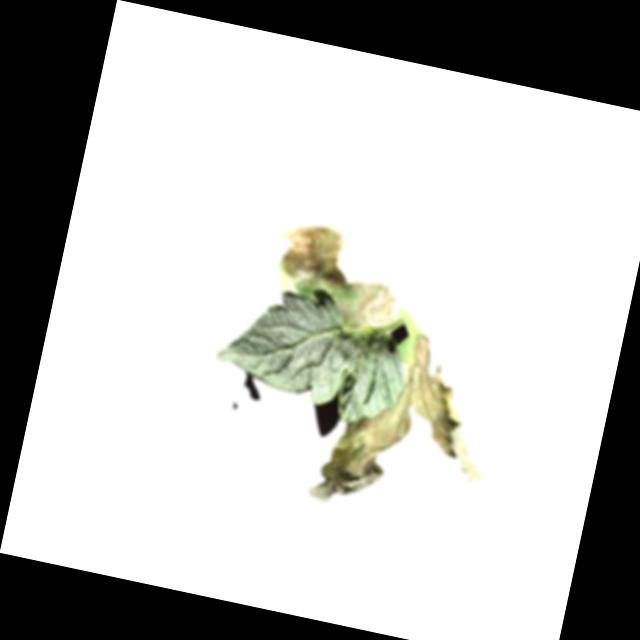Late_blight: (306, 320, 511, 535), (262, 212, 413, 337)
healthy: (205, 270, 417, 431)
